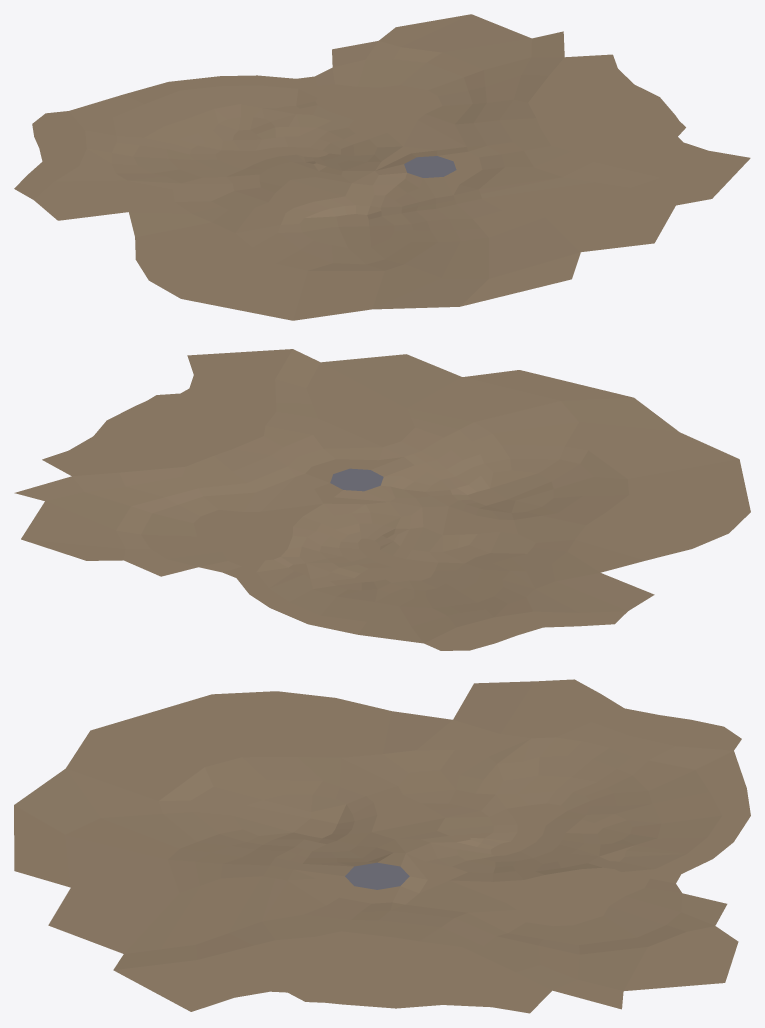
The model's file is lowerTerrainB.gltf.
The picture shows the model from 3 angles, top to bottom: view 1: azimuth 30°, elevation 25°; view 2: azimuth 150°, elevation 25°; view 3: azimuth 270°, elevation 25°; orthographic projection. The views are drawn at different scales.
Parts seen in each view (by area): view 1: lowerTerrain; view 2: lowerTerrain; view 3: lowerTerrain.
Part boxes in pixels (x1,y1,x2,y2): lowerTerrain: (14,14,750,320); lowerTerrain: (14,349,750,650); lowerTerrain: (14,679,750,1013).
Size of what is drawn, in the model's own units: 146 by 4 by 133.
1 material, 1 textured.
